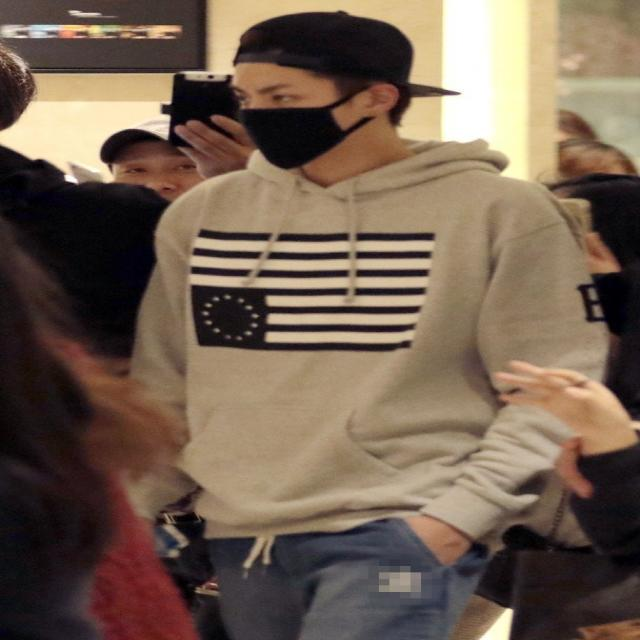mask: (236, 48, 351, 169)
nomask: (111, 137, 203, 235)
